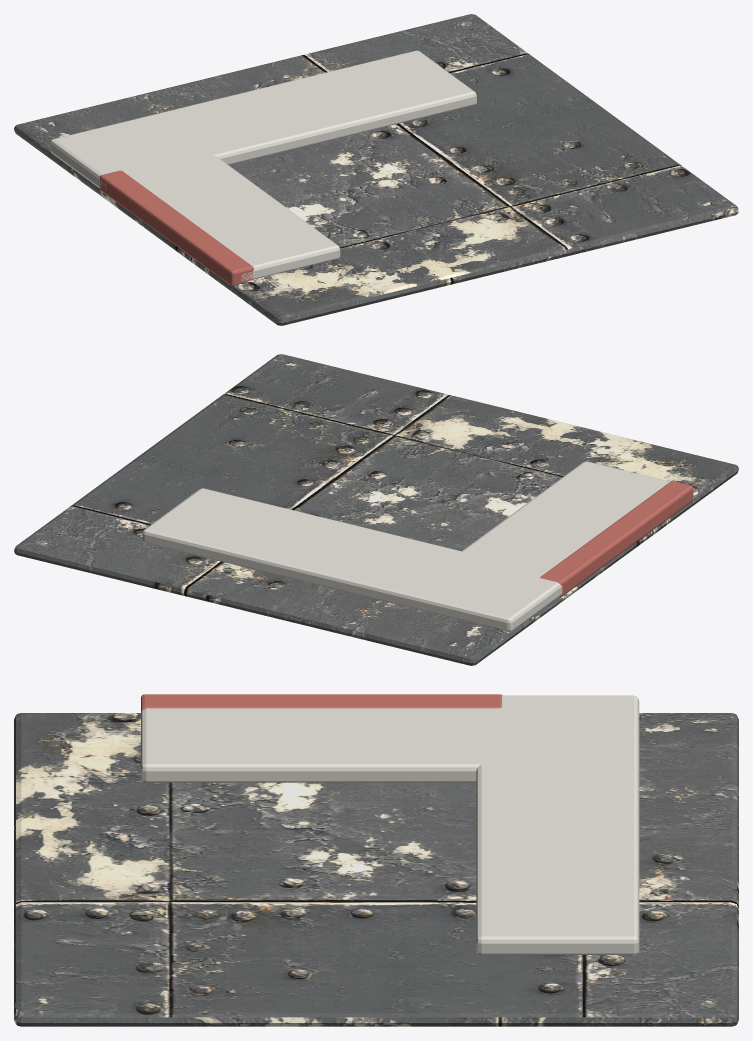
Rendered from inlay_l.glb.
3 views of the same model, one above another, from view 1: azimuth 30°, elevation 25°; view 2: azimuth 150°, elevation 25°; view 3: azimuth 270°, elevation 25° (orthographic). The views are drawn at different scales.
Visible parts, largest first — view 1: GEO-inlay-base, GEO-l-a, GEO-l-b, GEO-l-edge; view 2: GEO-inlay-base, GEO-l-a, GEO-l-b, GEO-l-edge; view 3: GEO-inlay-base, GEO-l-a, GEO-l-b, GEO-l-edge.
Boxes of the visible parts, x1,y1,x2,y2 form: GEO-inlay-base: (14, 14, 738, 325); GEO-l-a: (50, 50, 476, 189); GEO-l-b: (129, 151, 340, 281); GEO-l-edge: (99, 170, 253, 286); GEO-inlay-base: (14, 354, 738, 665); GEO-l-a: (142, 488, 562, 632); GEO-l-b: (462, 461, 669, 573); GEO-l-edge: (540, 481, 693, 596); GEO-inlay-base: (14, 713, 738, 1026); GEO-l-a: (476, 695, 639, 954); GEO-l-b: (141, 708, 497, 782); GEO-l-edge: (141, 694, 502, 711).
Bounding box in the file's own units: 40 × 1.85 × 40.
3 materials, 1 textured.
